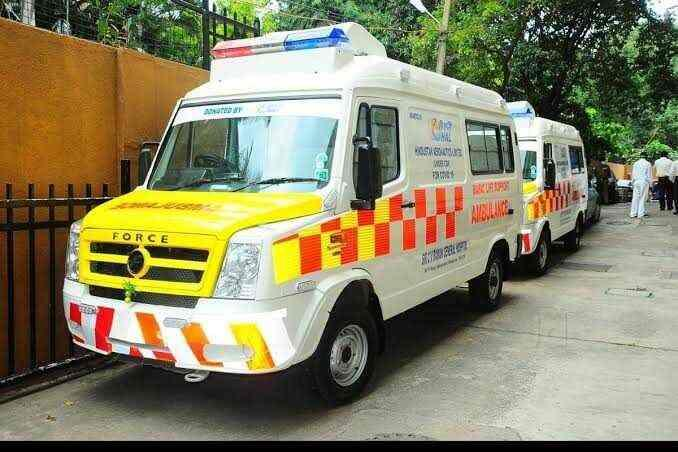ER: (64, 21, 521, 391), (512, 100, 588, 278)
